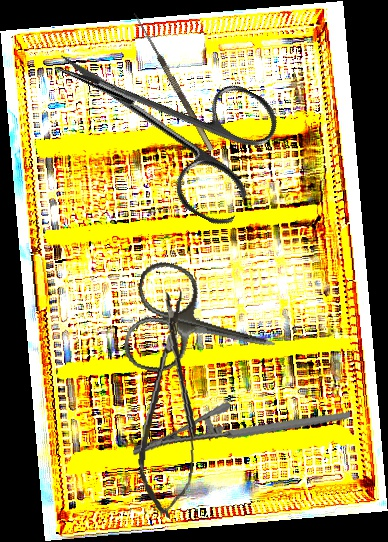Hook Surgical: (125, 11, 215, 156)
Iris Scissors: (24, 5, 291, 231), (119, 257, 288, 399)
Micro Scissor: (133, 287, 209, 520)
Needle Holder: (132, 374, 351, 493)
